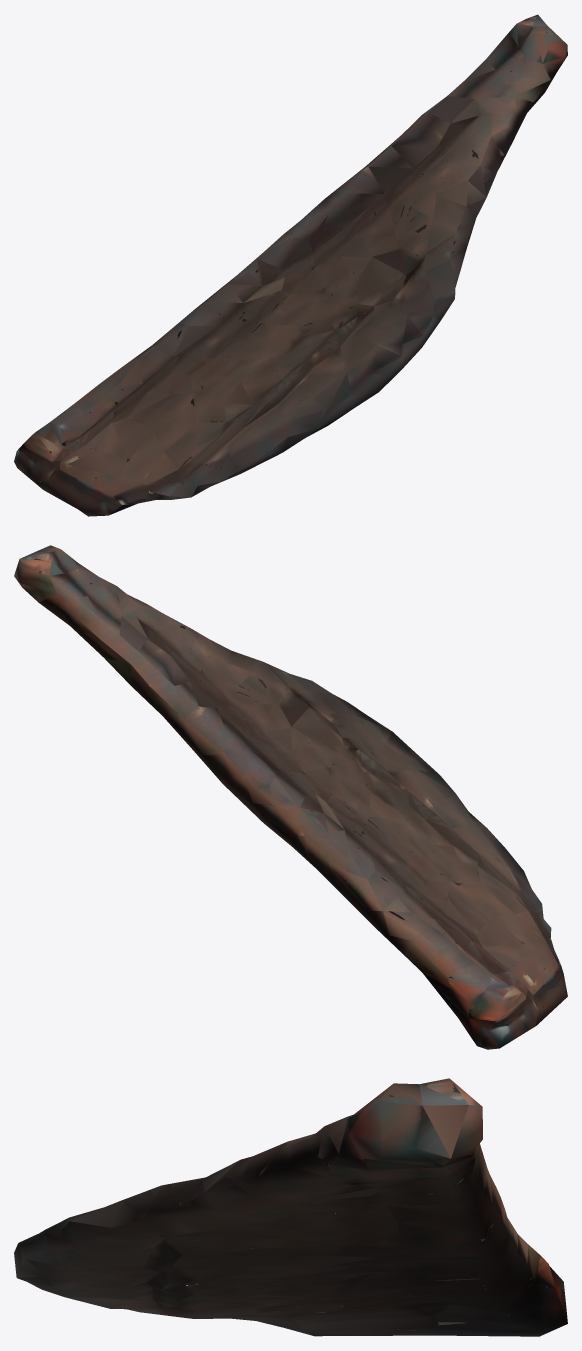
File: 16_gatekeeper.fbx
The picture shows the model from 3 angles, top to bottom: view 1: azimuth 30°, elevation 25°; view 2: azimuth 150°, elevation 25°; view 3: azimuth 270°, elevation 25°; orthographic projection. The views are drawn at different scales.
Visible parts, largest first — view 1: 16_gatekeeper; view 2: 16_gatekeeper; view 3: 16_gatekeeper.
Boxes of the visible parts, left/top/right/bottom form: 16_gatekeeper: left=14, top=14, right=567, bottom=516; 16_gatekeeper: left=14, top=545, right=567, bottom=1049; 16_gatekeeper: left=14, top=1078, right=567, bottom=1336.
Bounding box in the file's own units: 90 × 59.34 × 43.27.
1 material, 1 textured.
